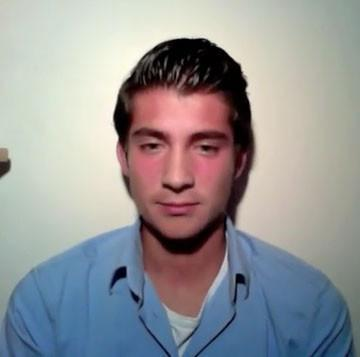Drunk: (123, 86, 232, 239)
